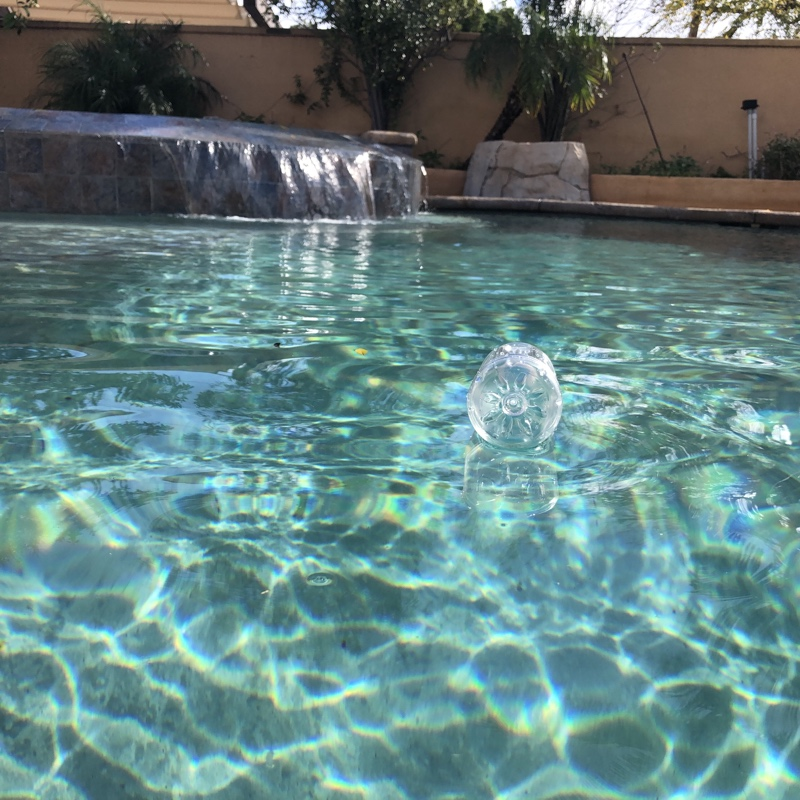Plastic Bottle: (462, 339, 566, 451)
